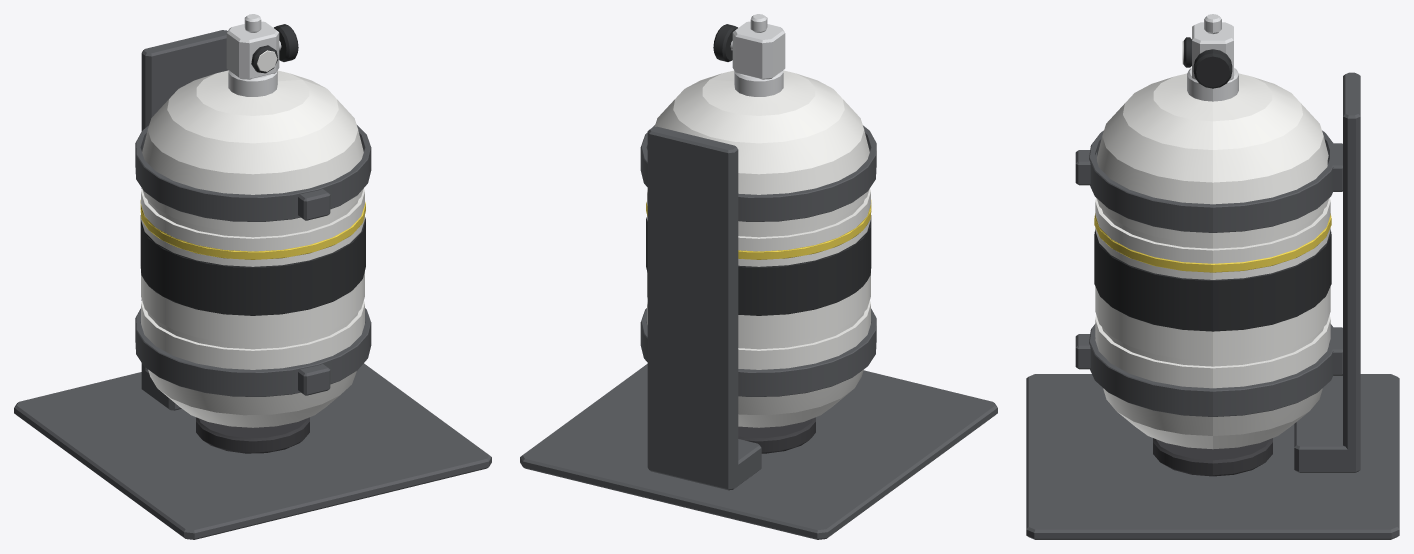
The model's file is eqm10_n2_tank.glb.
3 renders of one model, left to right at view 1: azimuth 30°, elevation 25°; view 2: azimuth 150°, elevation 25°; view 3: azimuth 270°, elevation 25°, orthographic. The views are drawn at different scales.
Parts seen in each view (by area): view 1: eqm10_bracket, eqm10_tank, eqm10_valve; view 2: eqm10_bracket, eqm10_tank, eqm10_valve; view 3: eqm10_bracket, eqm10_tank, eqm10_valve.
Part boxes in pixels (x1,y1,x2,y2): eqm10_bracket: (14,30,491,539); eqm10_tank: (140,70,365,427); eqm10_valve: (226,21,298,96); eqm10_bracket: (520,125,997,539); eqm10_tank: (646,70,871,427); eqm10_valve: (713,21,785,96); eqm10_bracket: (1026,72,1399,539); eqm10_tank: (1094,73,1331,449); eqm10_valve: (1182,22,1238,101).
Bounding box in the file's own units: 0.46 × 0.605 × 0.46.
